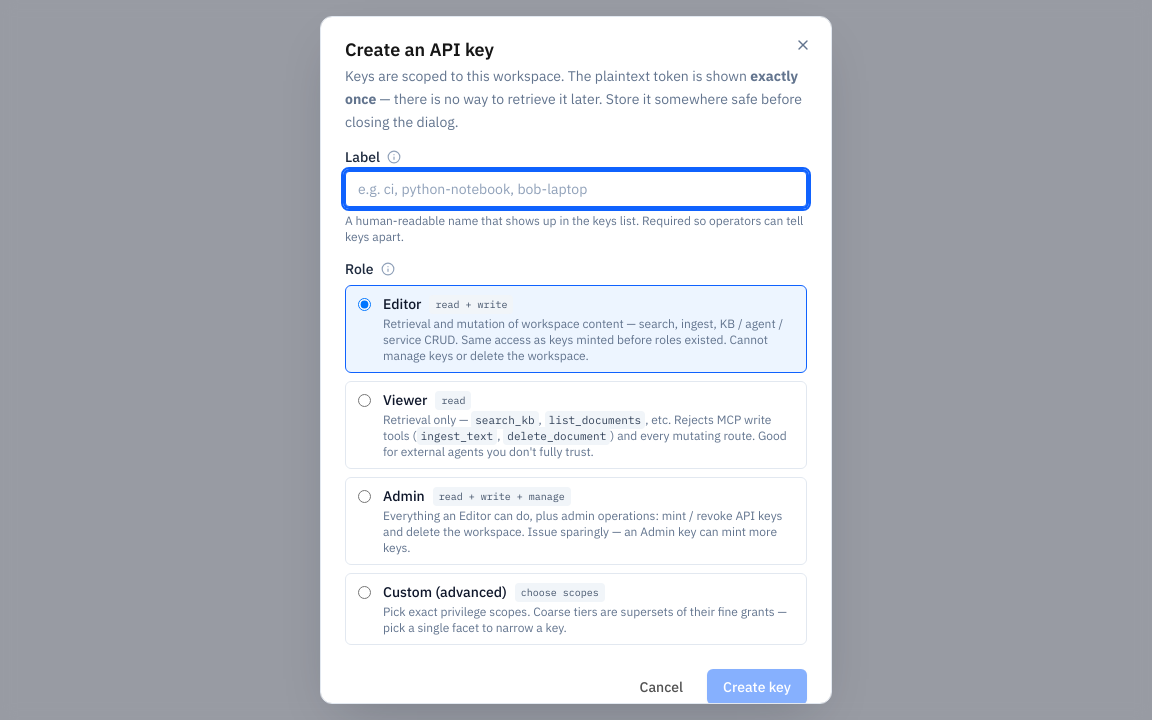
Scenario: CreateApiKeyDialog › keeps submit disabled until a nonblank label is entered
Check: the button "Create key" is disabled, box x1=707 y1=669 x2=807 y2=704
Type "notebook" into the field labelled "Label" at (576, 189), box x1=345 y1=171 x2=807 y2=207
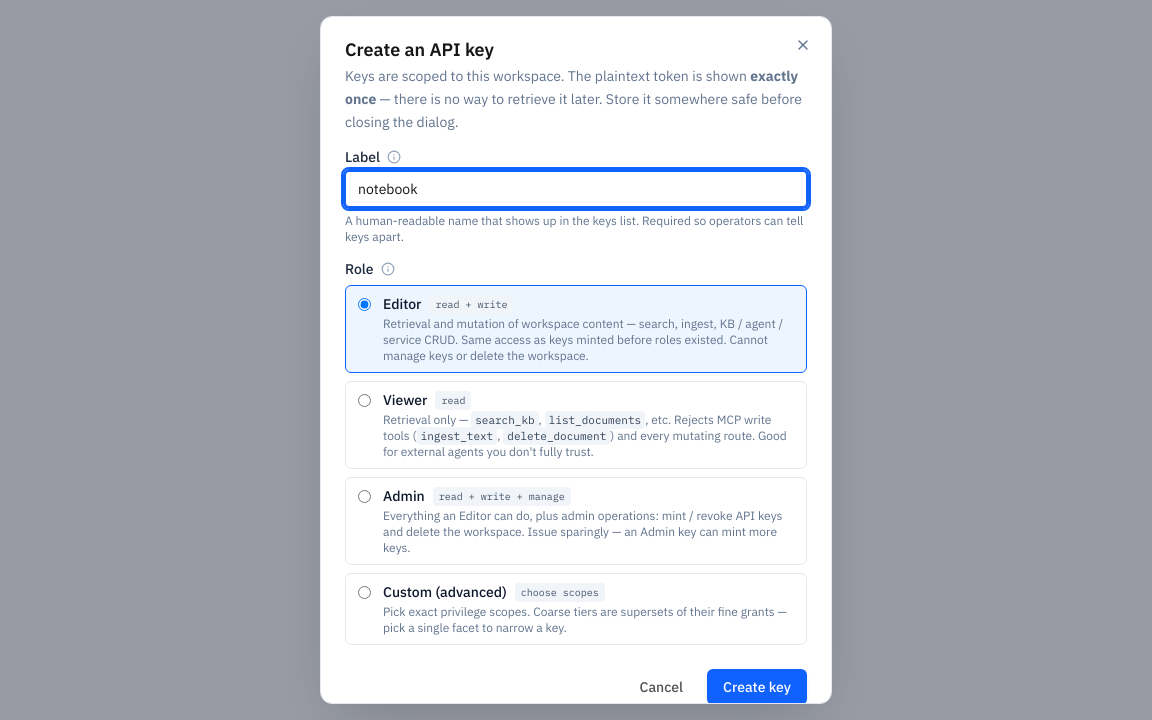
Check: the button "Create key" is enabled, box x1=707 y1=669 x2=807 y2=704
